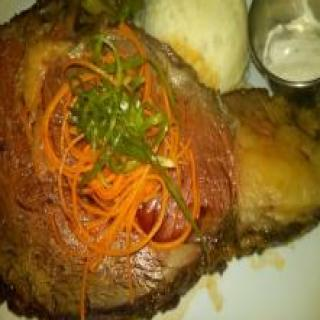rib: (0, 1, 320, 320)
